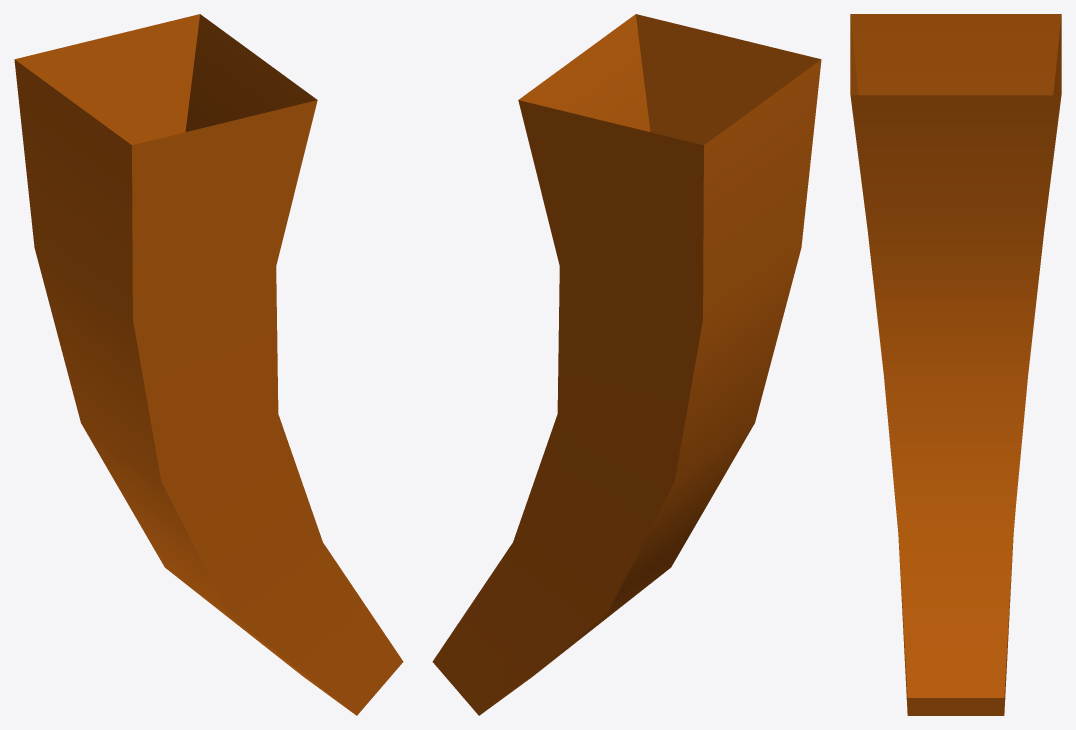
Rendered from Shotgun1_Trigger.fbx.
3 renders of one model, left to right at view 1: azimuth 30°, elevation 25°; view 2: azimuth 150°, elevation 25°; view 3: azimuth 270°, elevation 25°, orthographic. The views are drawn at different scales.
Parts seen in each view (by area): view 1: Shotgun1_Trigger; view 2: Shotgun1_Trigger; view 3: Shotgun1_Trigger.
Part boxes in pixels (x1,y1,x2,y2): Shotgun1_Trigger: [14, 14, 403, 715]; Shotgun1_Trigger: [432, 14, 821, 715]; Shotgun1_Trigger: [850, 14, 1061, 715].
Size of the model in its own units: 1.88 by 3.89 by 1.26.
